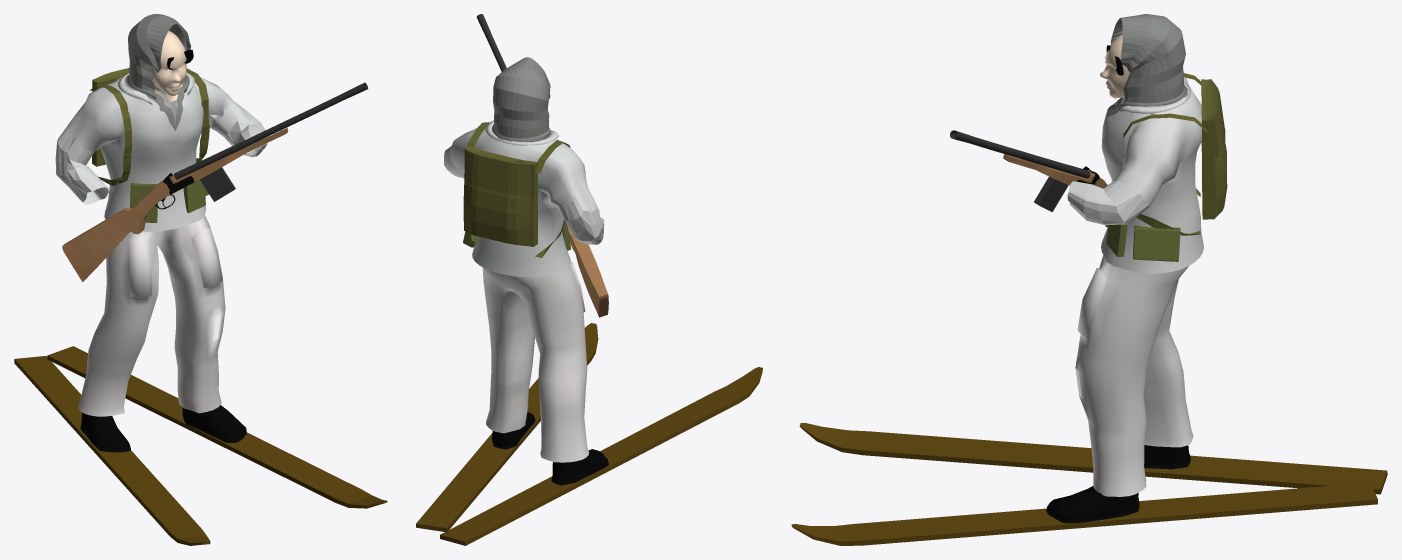
The model's file is alpine_troops1.dae.
3 renders of one model, left to right at view 1: azimuth 30°, elevation 25°; view 2: azimuth 150°, elevation 25°; view 3: azimuth 270°, elevation 25°, orthographic. The views are drawn at different scales.
Visible parts, largest first — view 1: jacket; view 2: jacket; view 3: jacket.
Part boxes in pixels (x1,y1,x2,y2): jacket: (14,14,387,545); jacket: (416,14,762,545); jacket: (791,14,1387,545).
Size of the model in its own units: 1.54 by 2.86 by 2.58.
Materials: 12 (1 with a texture image).
